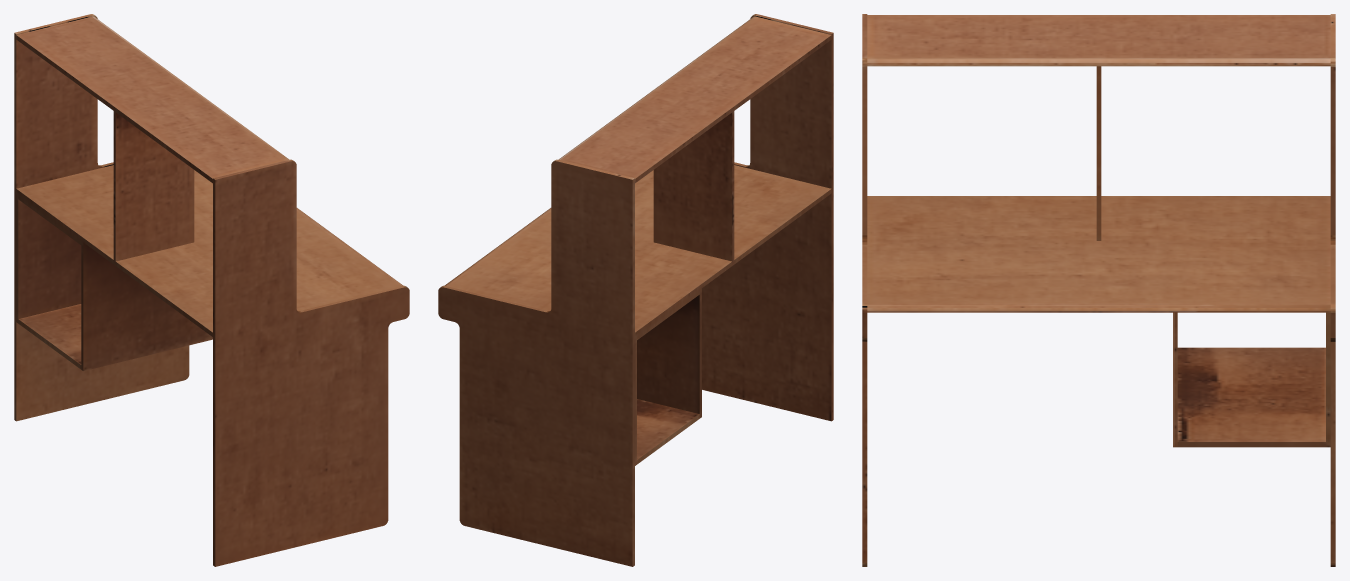
3 views of the same model, side by side, from view 1: azimuth 30°, elevation 25°; view 2: azimuth 150°, elevation 25°; view 3: azimuth 270°, elevation 25° (orthographic). The views are drawn at different scales.
Parts seen in each view (by area): view 1: Node; view 2: Node; view 3: Node.
Part boxes in pixels (left/top/right/bottom): Node: left=14, top=14, right=409, bottom=566; Node: left=438, top=14, right=833, bottom=566; Node: left=862, top=14, right=1335, bottom=566.
Size of the model in its own units: 0.3681 by 0.7 by 0.6585.
1 material, 1 textured.
